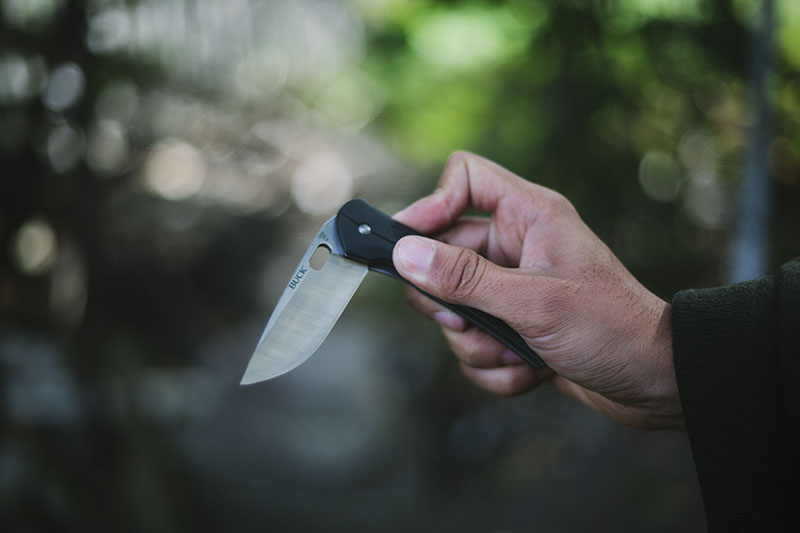knife: (226, 184, 471, 405)
